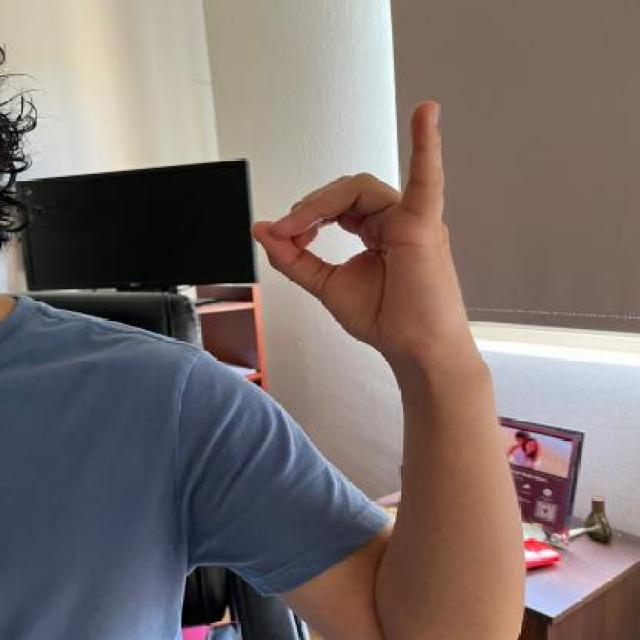D: (259, 90, 473, 356)
